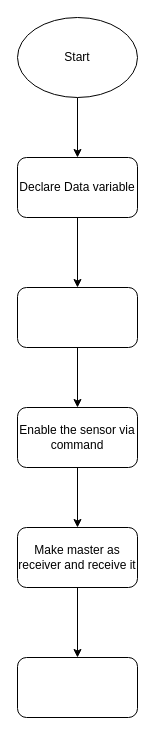
This 155x735 diagram has some shape labels left out. Each missing label, with the centre of its shape:
Give the slave address: point (77, 317)
Return Data: point (77, 687)
